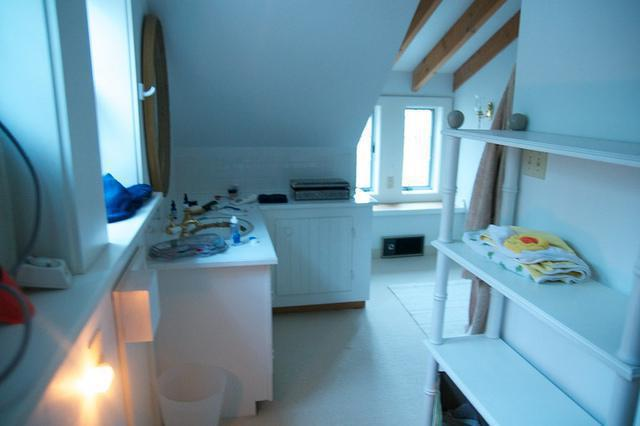Bote de Basura: (149, 364, 225, 425)
Lavamanos: (163, 205, 262, 248)
